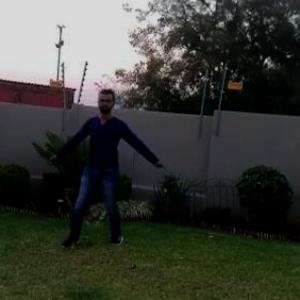land: (60, 92, 162, 228)
